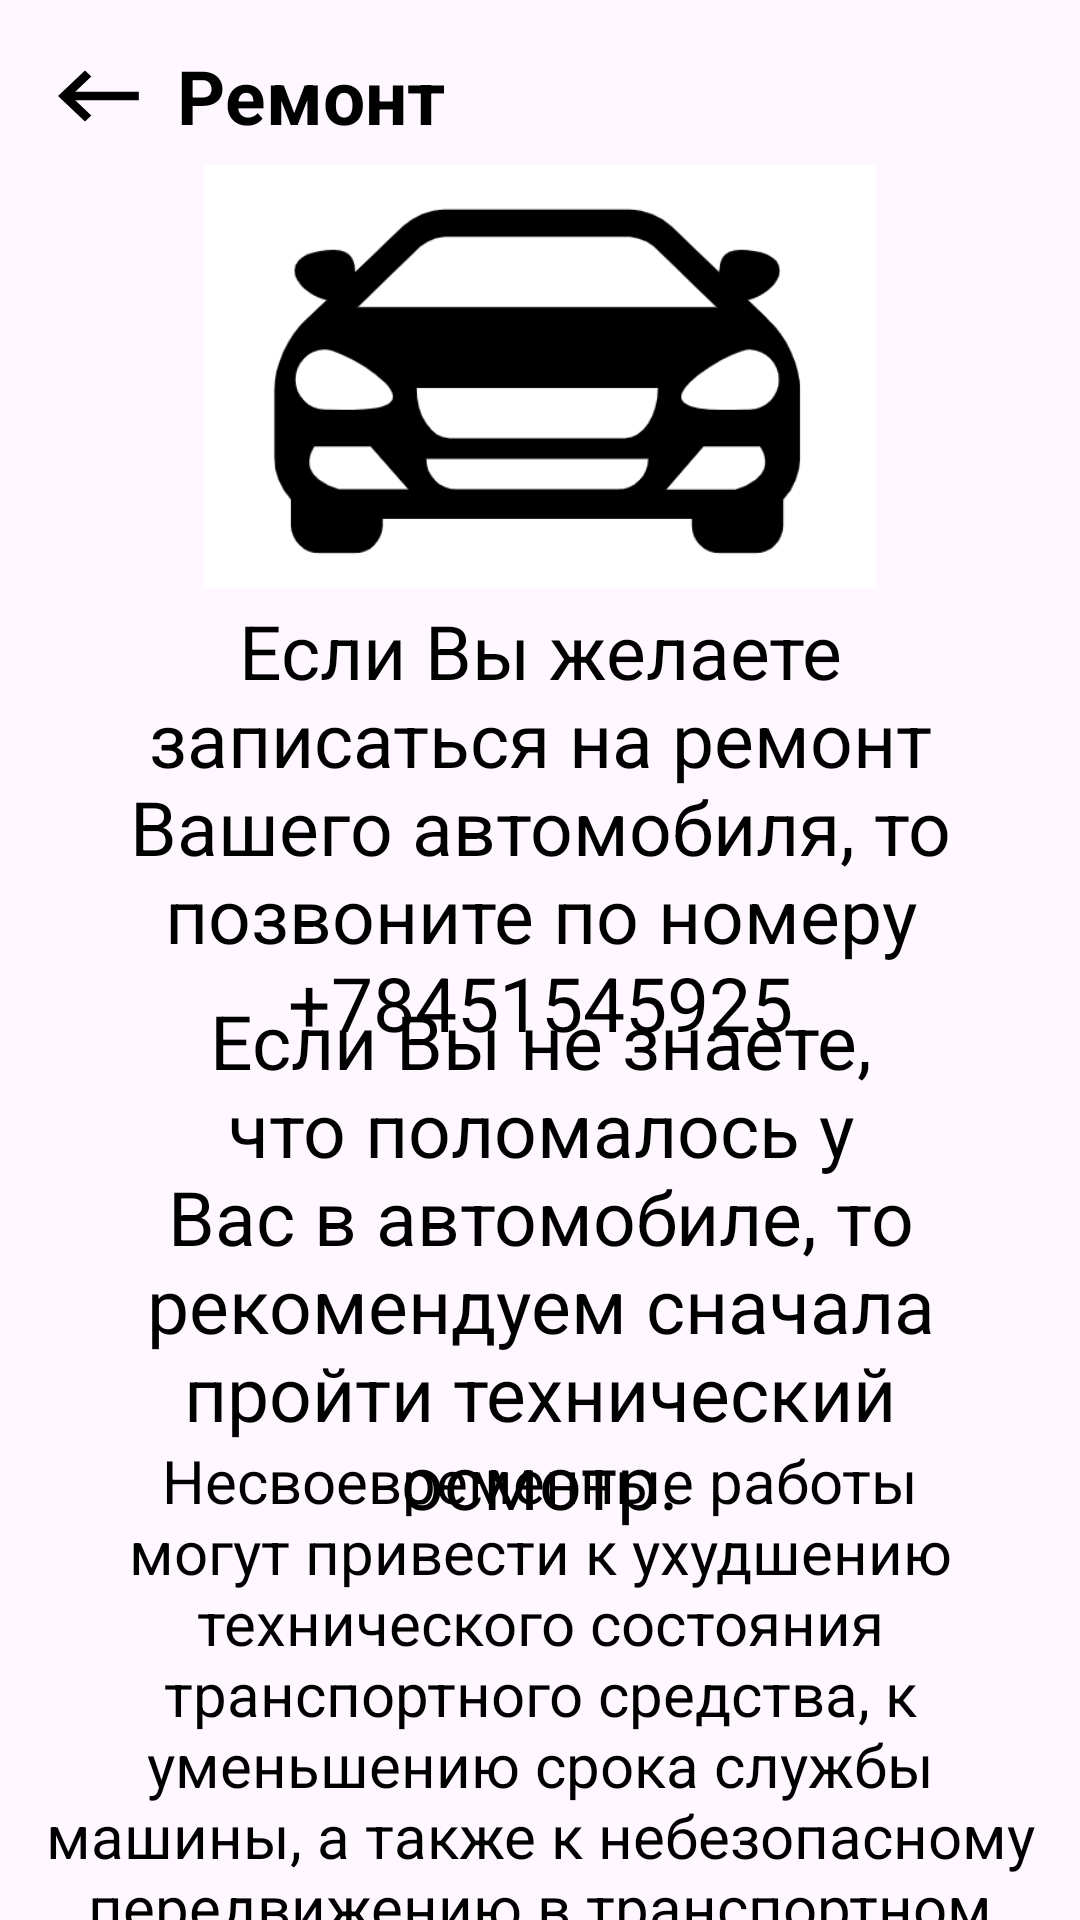

Point at icon controls on the screen. Image size 1080 x 1920, points as (x=x, y=y).
back: (x=98, y=96)
